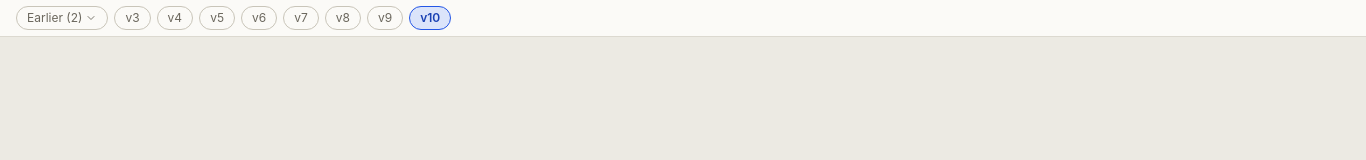
Test: VersionStrip › with more than 8 versions › toggles aria-expanded and shows the listbox while open
Click the button "Earlier (2)" at [62, 18], box [16,6,108,30]
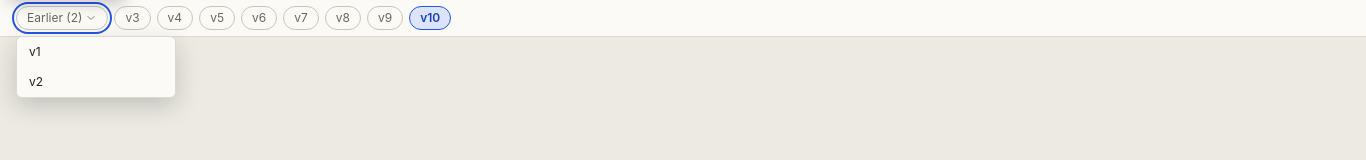
Expected: the button "Earlier (2)" is expanded, [16,6,108,30]
Expected: the list is shown, [16,36,176,98]
